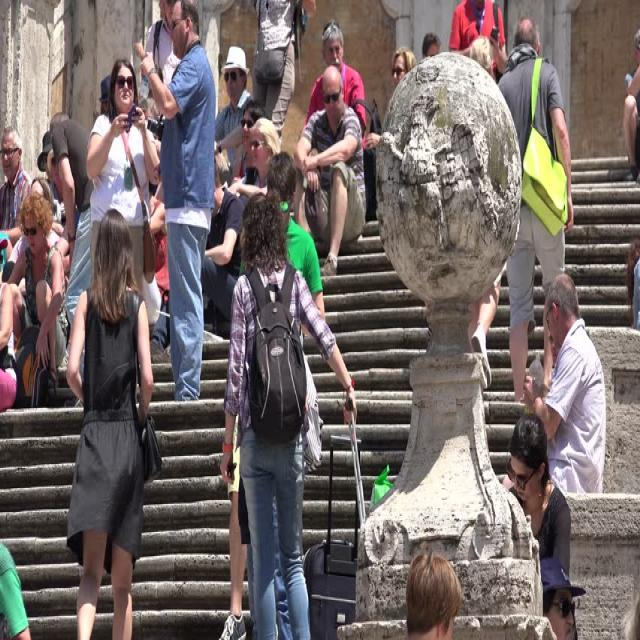body: (216, 185, 358, 639), (239, 149, 327, 640), (62, 200, 156, 639), (136, 0, 216, 412), (496, 15, 576, 409), (216, 192, 266, 640), (517, 271, 608, 497), (85, 56, 162, 301), (288, 60, 370, 280), (48, 110, 95, 386), (5, 188, 64, 392), (506, 411, 572, 578), (250, 0, 318, 152), (298, 21, 368, 167), (200, 157, 246, 323), (392, 548, 464, 640), (213, 42, 256, 182), (143, 104, 170, 325), (447, 0, 509, 85), (533, 550, 585, 640), (0, 122, 33, 246), (474, 269, 504, 392), (237, 95, 284, 173), (388, 28, 444, 83), (0, 542, 30, 640), (622, 28, 640, 184), (30, 131, 61, 216), (0, 277, 17, 413), (625, 243, 640, 321), (96, 72, 115, 119), (543, 318, 558, 366), (625, 593, 640, 631)
